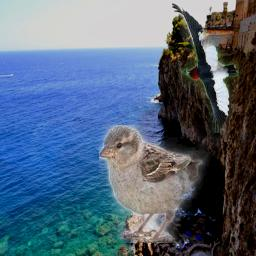Sparrow: (99, 125, 229, 243)
Woodpecker: (172, 3, 239, 133)
